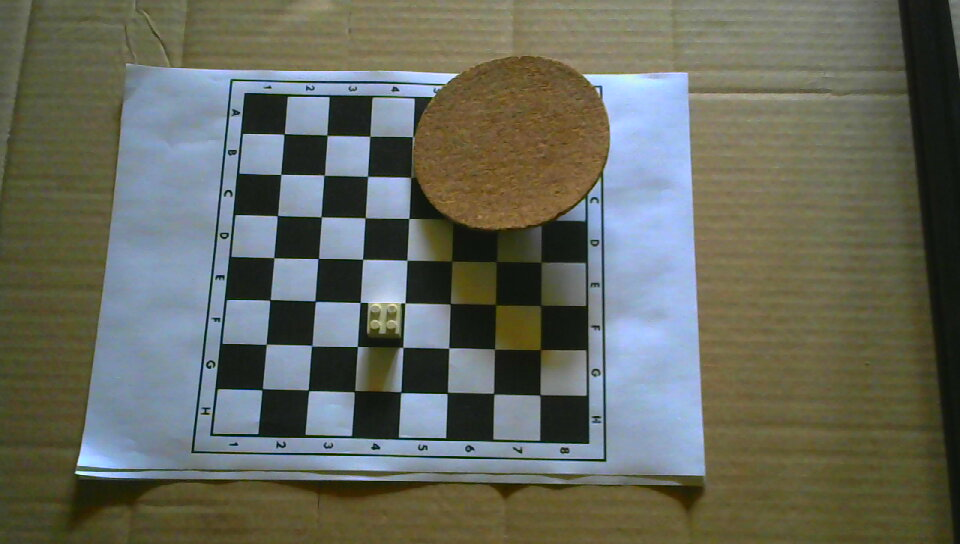wp: (364, 299, 403, 341)
